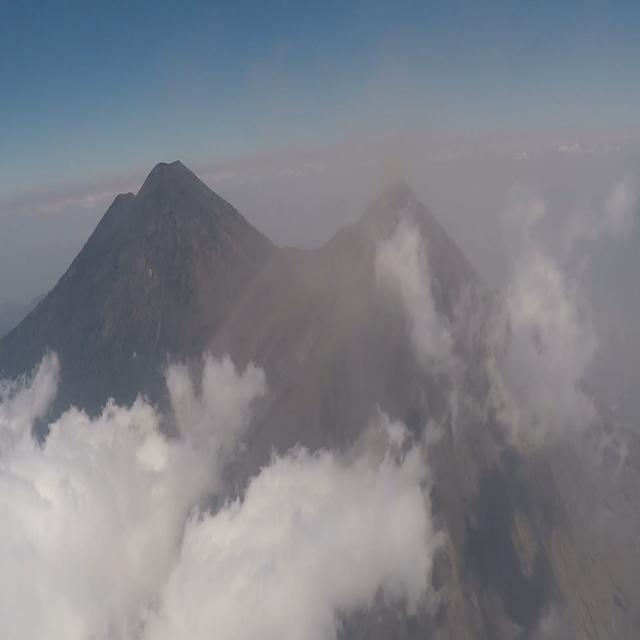Summit: (324, 166, 480, 280)
